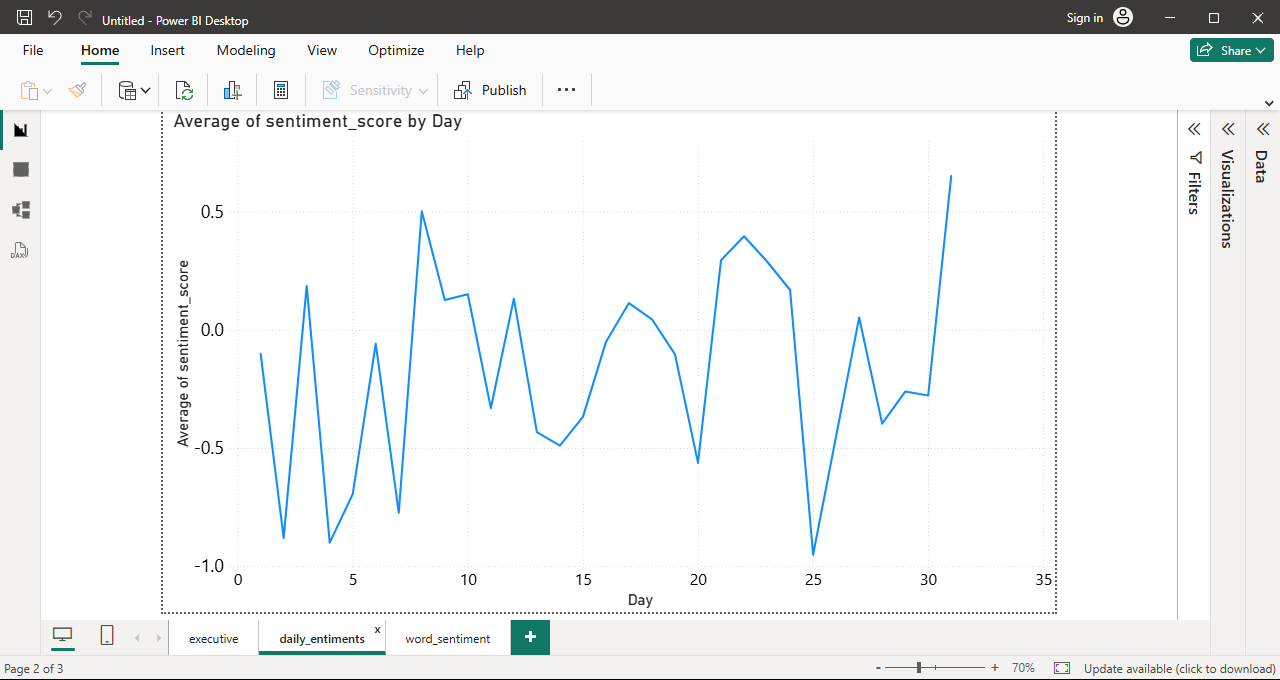

This screenshot's page, from the dashboard's own definition file:
{"tool":"powerbi","page":{"name":"daily_entiments","canvas":[1280,720],"ordinal":1},"visuals":[{"type":"lineChart","fields":{"Category":["all_combined_with_sentiment.date.Variation.Date Hierarchy.Day"],"Y":["Avg(all_combined_with_sentiment.sentiment_score)"]},"box":[9.5,0,1270.5,719.5],"z":0}]}

Visuals, with their boxes on the page's 1280x720 design canvas (x1, y1, x2, y2). These are canvas units, not pixel positions in the 1280x680 screenshot, which may show the page scaled, cropped or inside an application window:
lineChart - all_combined_with_sentiment.date.Variation.Date Hierarchy.Day x Avg(all_combined_with_sentiment.sentiment_score): {"left": 10, "top": 0, "right": 1280, "bottom": 720}
